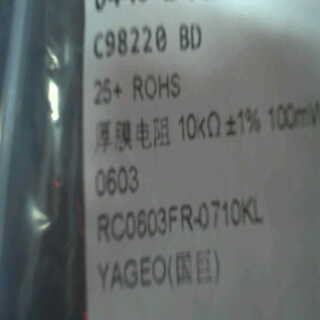10kR: (175, 106, 225, 146)
